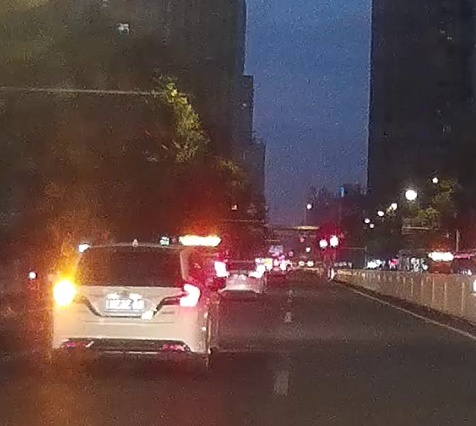L_light: (53, 276, 82, 307)
R_light: (162, 282, 201, 307)
T_light: (120, 249, 146, 255)
night-left: (52, 242, 204, 375)
